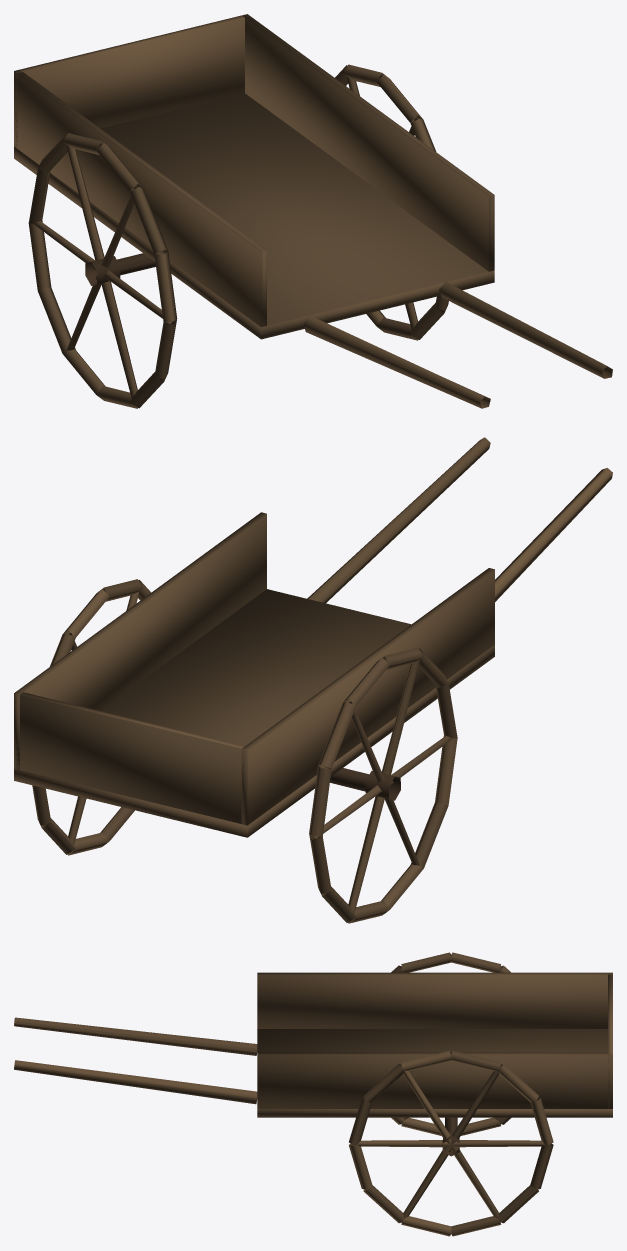
Rendered from carro.glb.
3 views of the same model, one above another, from view 1: azimuth 30°, elevation 25°; view 2: azimuth 150°, elevation 25°; view 3: azimuth 270°, elevation 25° (orthographic). The views are drawn at different scales.
Parts seen in each view (by area): view 1: carro; view 2: carro; view 3: carro.
Part boxes in pixels (<box>): carro: <box>14,14,612,408</box>; carro: <box>14,437,612,923</box>; carro: <box>14,952,612,1236</box>.
Bounding box in the file's own units: 1.56 × 1.27 × 3.7.
